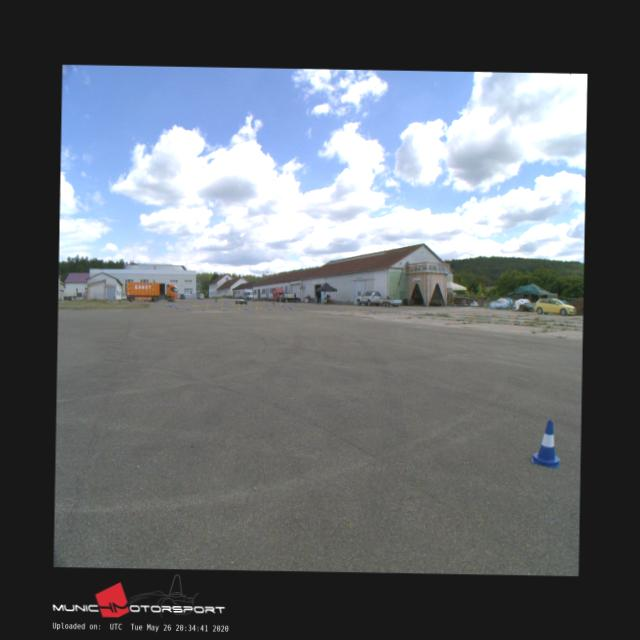blue_cone: (530, 419, 561, 468)
